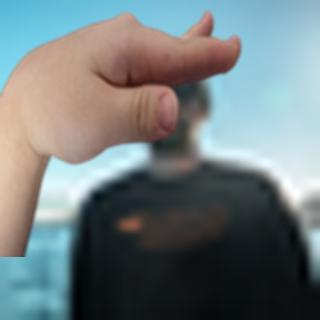Wait: (3, 9, 251, 168)
